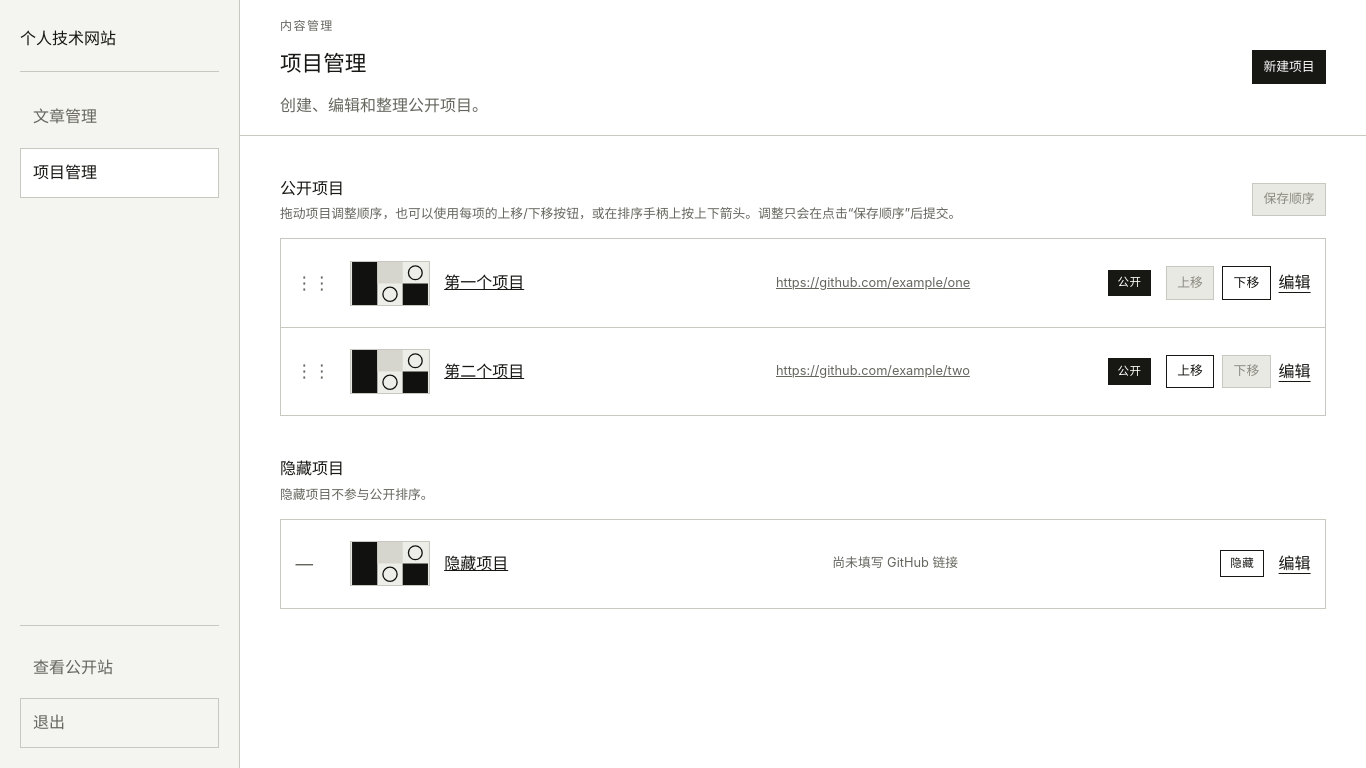
Test case: 管理端路由页面 › 项目顺序冲突时保留本地顺序并提示刷新
Click the button "上移" in the row of "第二个项目". click: (1190, 372)
box: [1166,355,1214,388]
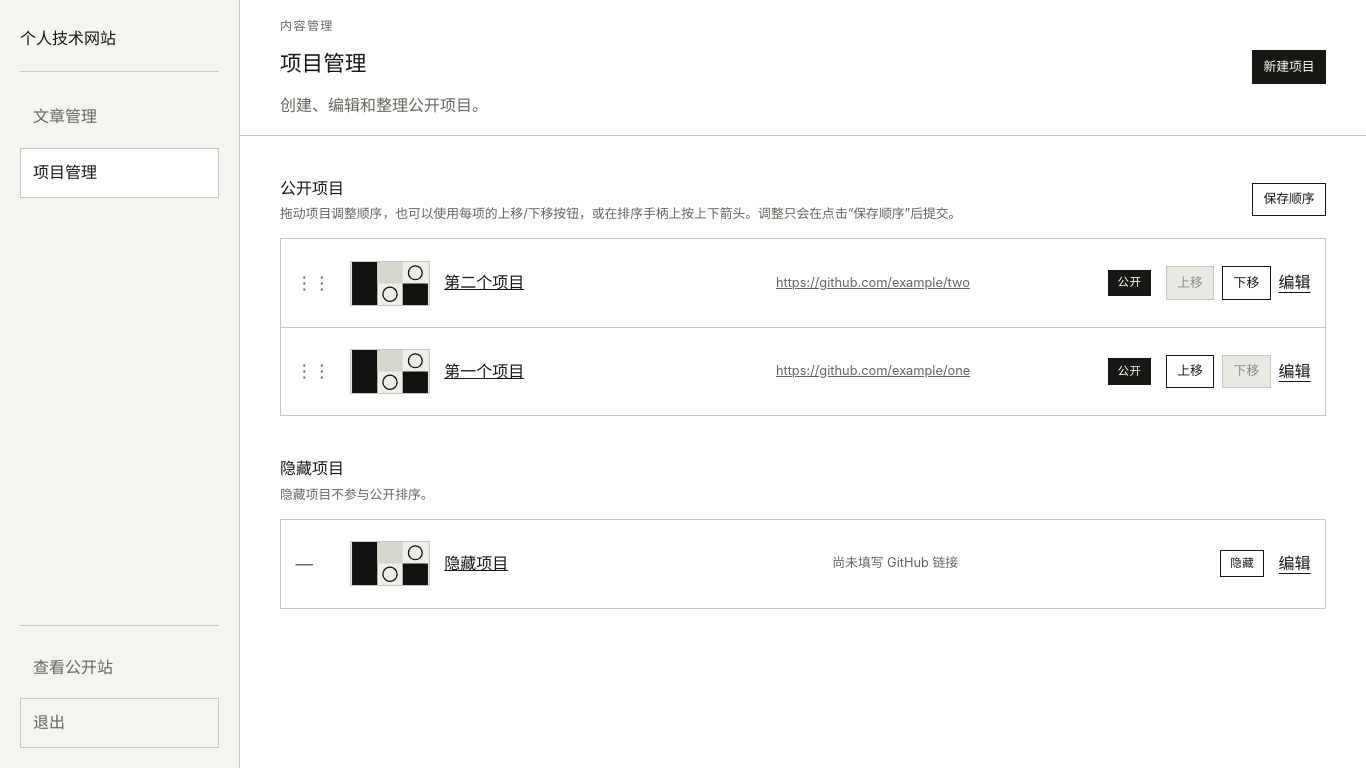
Click the button "保存顺序". click: (1289, 200)
box: [1252,183,1326,216]
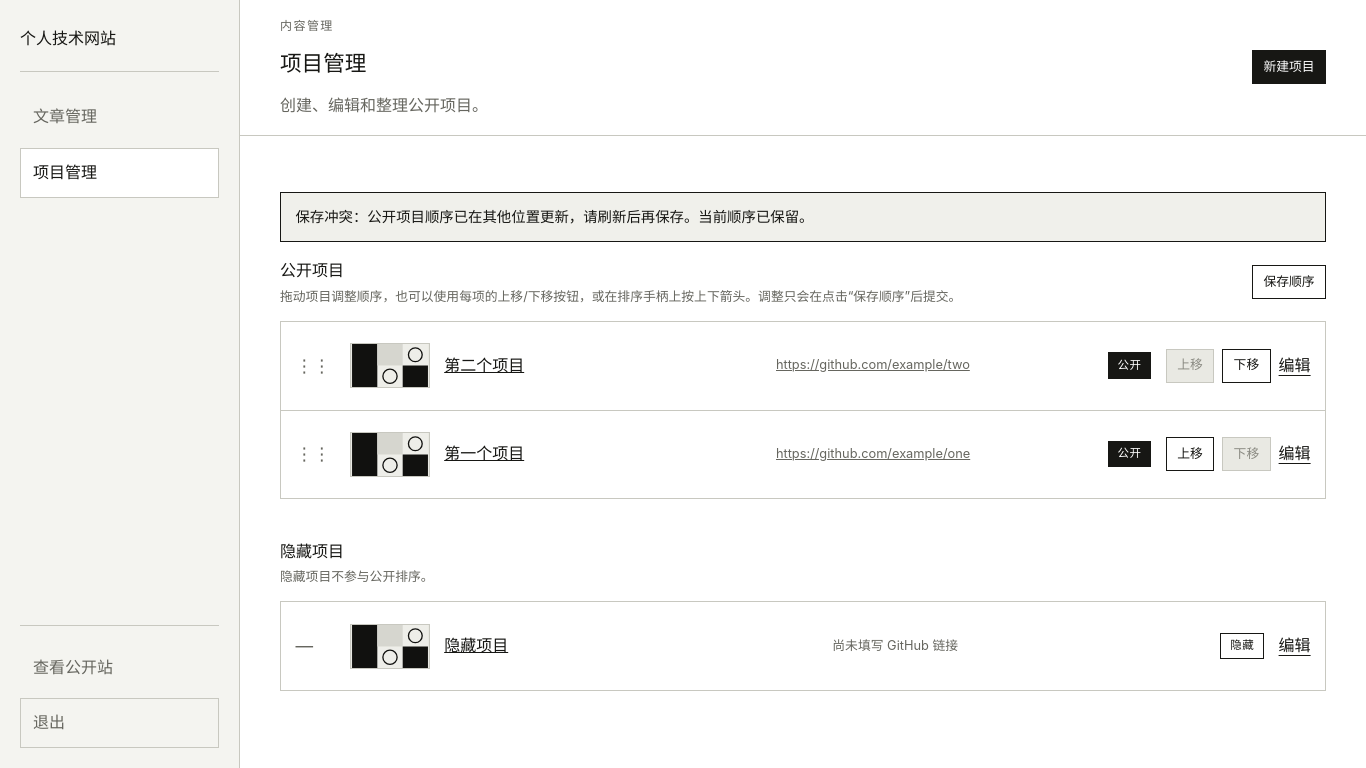
Expected: the elements with class "sortable-item__name" read "第二个项目", "第一个项目", in this order, [444,355,524,375]; [444,443,524,463]
Expected: the message "保存冲突：公开项目顺序已在其他位置更新，请刷新后再保存。当前顺序已保留。" is shown, [280,192,1326,242]
